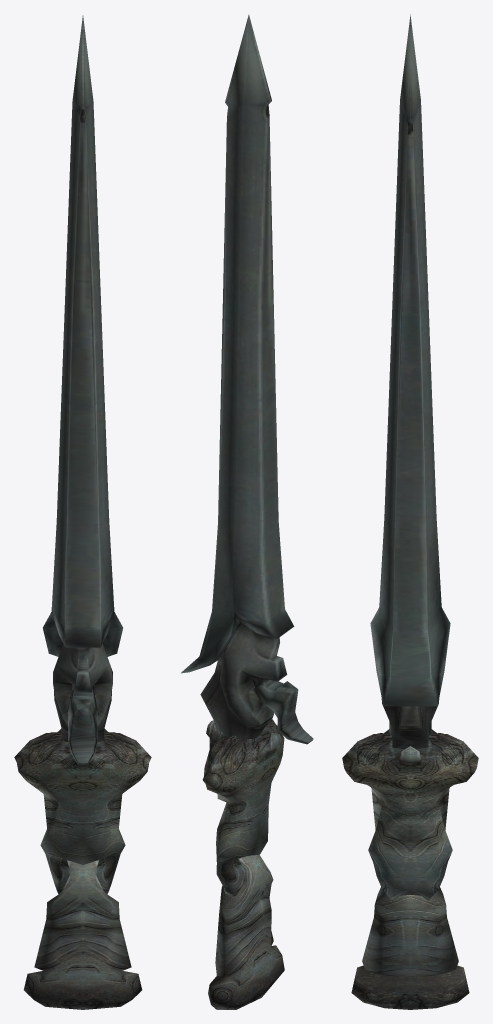
File: RewardSword.fbx
3 renders of one model, left to right at view 1: azimuth 90°, elevation 25°; view 2: azimuth 150°, elevation 25°; view 3: azimuth 270°, elevation 25°, orthographic.
Visible parts, largest first — view 1: rdmobj00_003; view 2: rdmobj00_003; view 3: rdmobj00_003.
Boxes of the visible parts, left/top/right/bottom form: rdmobj00_003: left=14, top=15, right=151, bottom=1009; rdmobj00_003: left=181, top=14, right=313, bottom=1009; rdmobj00_003: left=342, top=14, right=478, bottom=1009.
Bounding box in the file's own units: 2.5 × 20 × 2.5.
